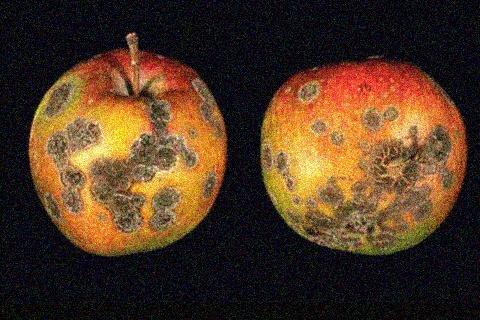rotten apple: (256, 44, 469, 259), (23, 43, 228, 259)
